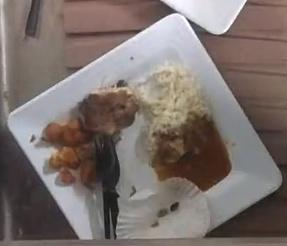carrots: (43, 88, 137, 185)
pork: (79, 89, 139, 135)
rice: (136, 66, 210, 166)
